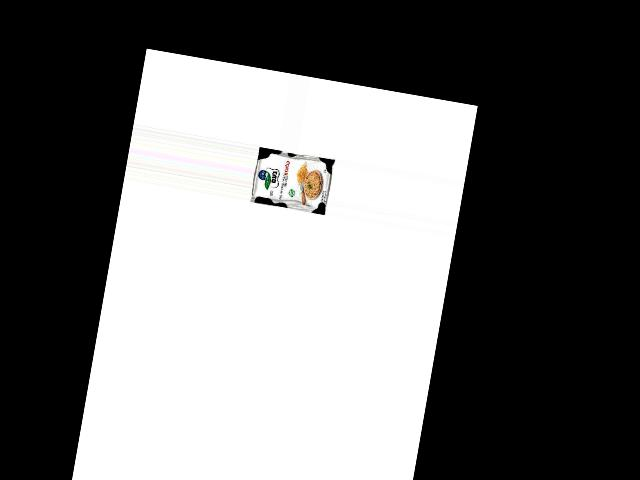cheese: (249, 145, 336, 216)
